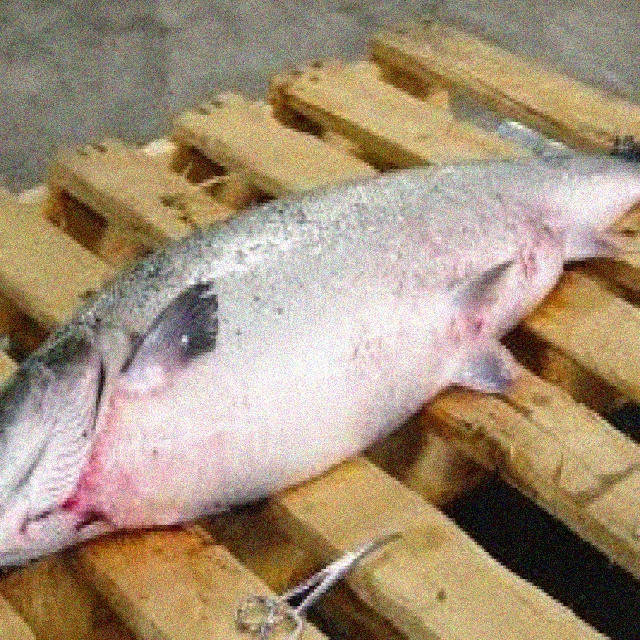EUS Disease: (0, 139, 640, 570), (13, 191, 591, 546)
